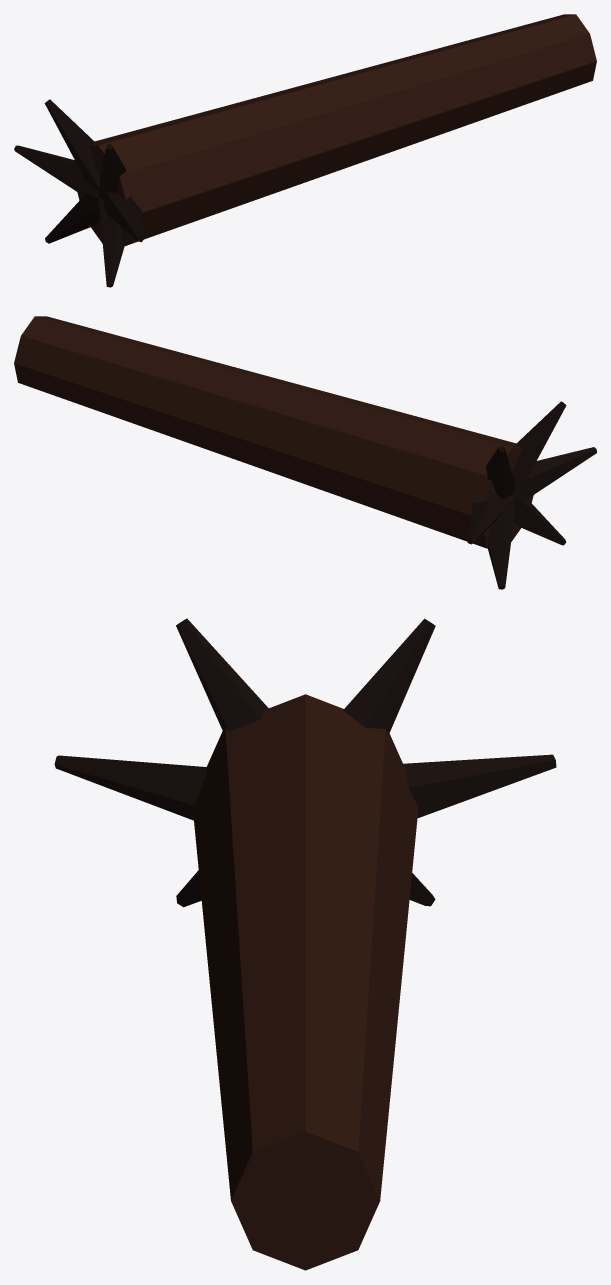
Rendered from Wood_Uprooted_01.fbx.
3 views of the same model, one above another, from view 1: azimuth 30°, elevation 25°; view 2: azimuth 150°, elevation 25°; view 3: azimuth 270°, elevation 25° (orthographic). The views are drawn at different scales.
Visible parts, largest first — view 1: Wood_Uprooted_01_Mesh; view 2: Wood_Uprooted_01_Mesh; view 3: Wood_Uprooted_01_Mesh.
Part boxes in pixels (x1=…): Wood_Uprooted_01_Mesh: x1=14, y1=14, x2=596, y2=287; Wood_Uprooted_01_Mesh: x1=14, y1=316, x2=596, y2=589; Wood_Uprooted_01_Mesh: x1=54, y1=618, x2=556, y2=1270.
Size of the model in its own units: 3.28 by 0.8929 by 1.41.
Materials: 1 (1 with a texture image).
